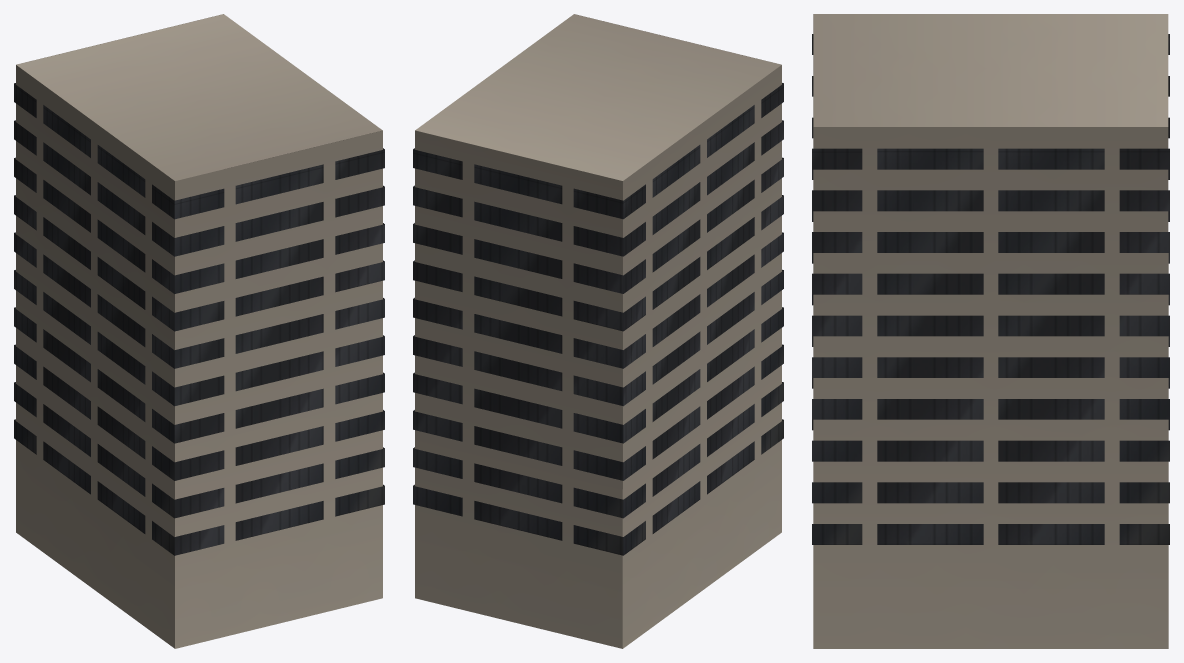
The model's file is Bld_Building_F_low.fbx.
The picture shows the model from 3 angles, left to right: view 1: azimuth 30°, elevation 25°; view 2: azimuth 150°, elevation 25°; view 3: azimuth 270°, elevation 25°; orthographic projection. The views are drawn at different scales.
Visible parts, largest first — view 1: Bld_Building_F_low; view 2: Bld_Building_F_low; view 3: Bld_Building_F_low.
Part boxes in pixels (<box>): Bld_Building_F_low: <box>14,14,384,648</box>; Bld_Building_F_low: <box>413,14,783,648</box>; Bld_Building_F_low: <box>812,14,1169,648</box>.
Size of the model in its own units: 1648 by 3500 by 2176.
